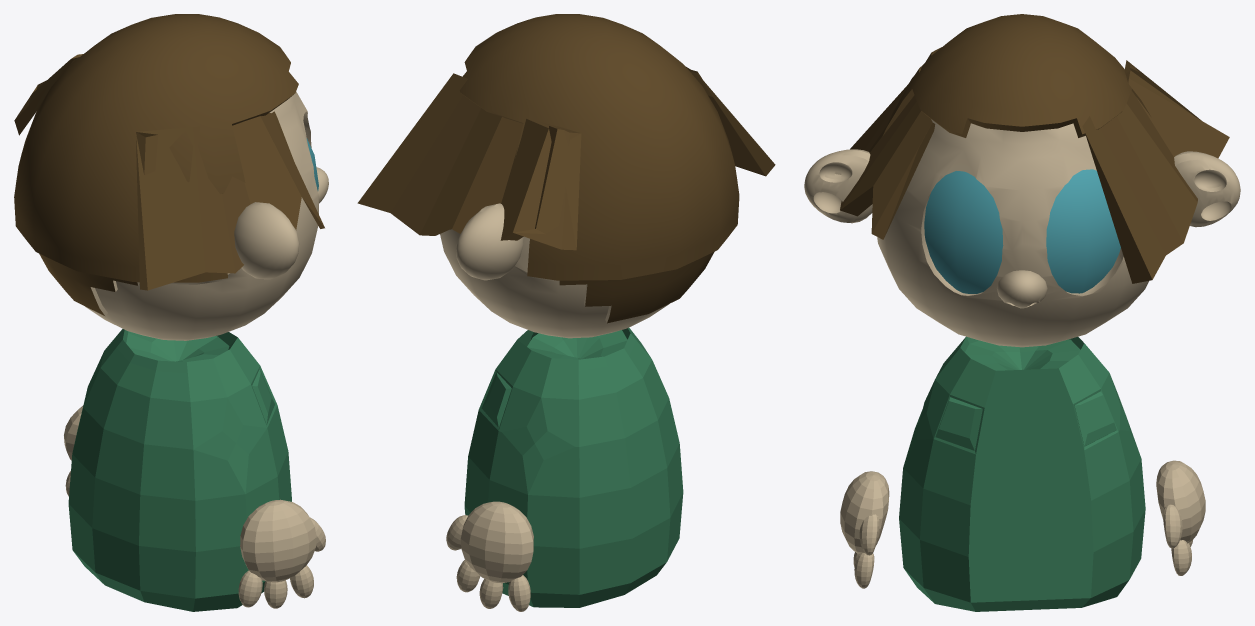
Rendered from alexlowpoly blend.fbx.
3 renders of one model, left to right at view 1: azimuth 30°, elevation 25°; view 2: azimuth 150°, elevation 25°; view 3: azimuth 270°, elevation 25°, orthographic. The views are drawn at different scales.
Parts seen in each view (by area): view 1: Sphere.001, Sphere, Cube.001, Sphere.009, Sphere.023, Cube, Sphere.016, Sphere.017, Sphere.018, Sphere.008; view 2: Sphere.001, Sphere, Cube, Sphere.008, Sphere.022, Cube.001, Sphere.014; view 3: Sphere, Sphere.001, Cube, Sphere.019, Cube.001, Sphere.022, Sphere.023, Sphere.008, Sphere.009, Sphere.024, Sphere.011, Sphere.015.
Boxes of the visible parts, box(x1,y1,x2,y2) form: Sphere.001: box(14, 14, 318, 340); Sphere: box(68, 329, 291, 611); Cube.001: box(136, 111, 324, 290); Sphere.009: box(240, 499, 316, 582); Sphere.023: box(234, 202, 299, 279); Cube: box(14, 54, 83, 135); Sphere.016: box(238, 570, 262, 607); Sphere.017: box(264, 580, 287, 608); Sphere.018: box(290, 565, 313, 598); Sphere.008: box(64, 405, 83, 460); Sphere.001: box(440, 14, 739, 338); Sphere: box(464, 327, 683, 607); Cube: box(357, 73, 581, 250); Sphere.008: box(460, 501, 533, 583); Sphere.022: box(456, 203, 523, 280); Cube.001: box(685, 66, 775, 176); Sphere.014: box(508, 575, 530, 611); Sphere: box(899, 336, 1145, 611); Sphere.001: box(877, 14, 1150, 347); Cube: box(1082, 60, 1229, 283); Sphere.019: box(924, 169, 1120, 293); Cube.001: box(840, 47, 941, 239); Sphere.022: box(1174, 151, 1240, 227); Sphere.023: box(804, 149, 872, 223); Sphere.008: box(1156, 460, 1205, 543); Sphere.009: box(840, 471, 889, 554); Sphere.024: box(997, 270, 1047, 308); Sphere.011: box(1163, 504, 1182, 548); Sphere.015: box(859, 514, 879, 555).
Bounding box in the file's own units: 134 × 232 × 165.
